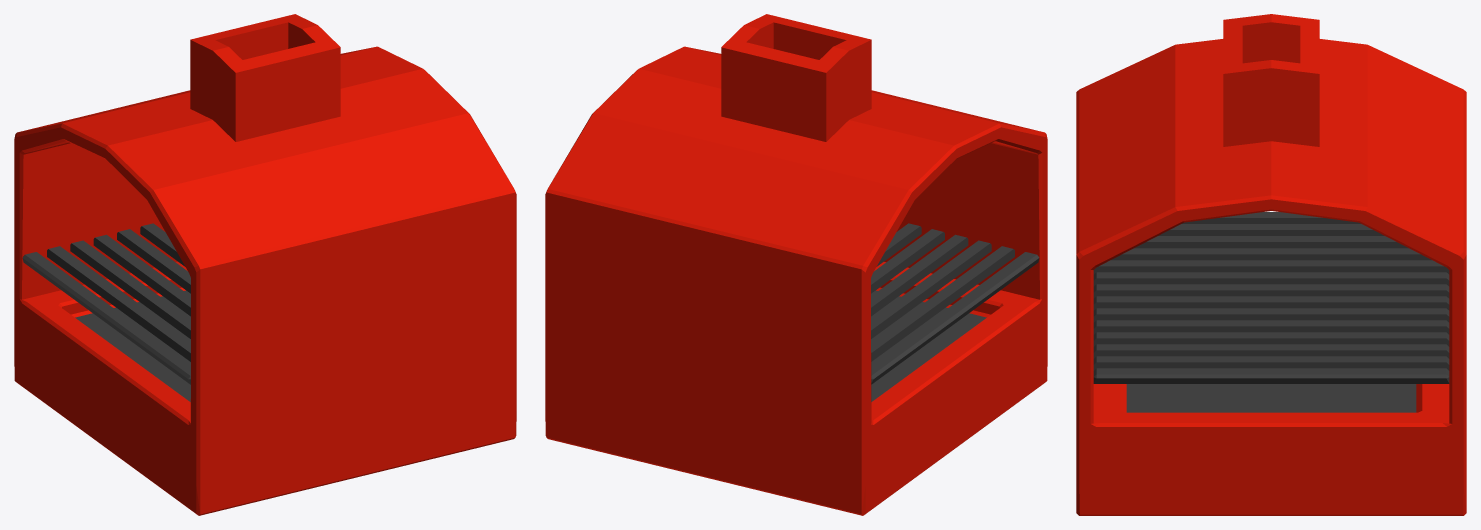
File: furnace.fbx
3 renders of one model, left to right at view 1: azimuth 30°, elevation 25°; view 2: azimuth 150°, elevation 25°; view 3: azimuth 270°, elevation 25°, orthographic. The views are drawn at different scales.
Parts seen in each view (by area): view 1: Cube; view 2: Cube; view 3: Cube.
Part boxes in pixels (x1,y1,x2,y2): Cube: [14, 14, 516, 515]; Cube: [545, 14, 1047, 515]; Cube: [1076, 14, 1466, 515].
Size of the model in its own units: 2 by 2 by 2.23.
